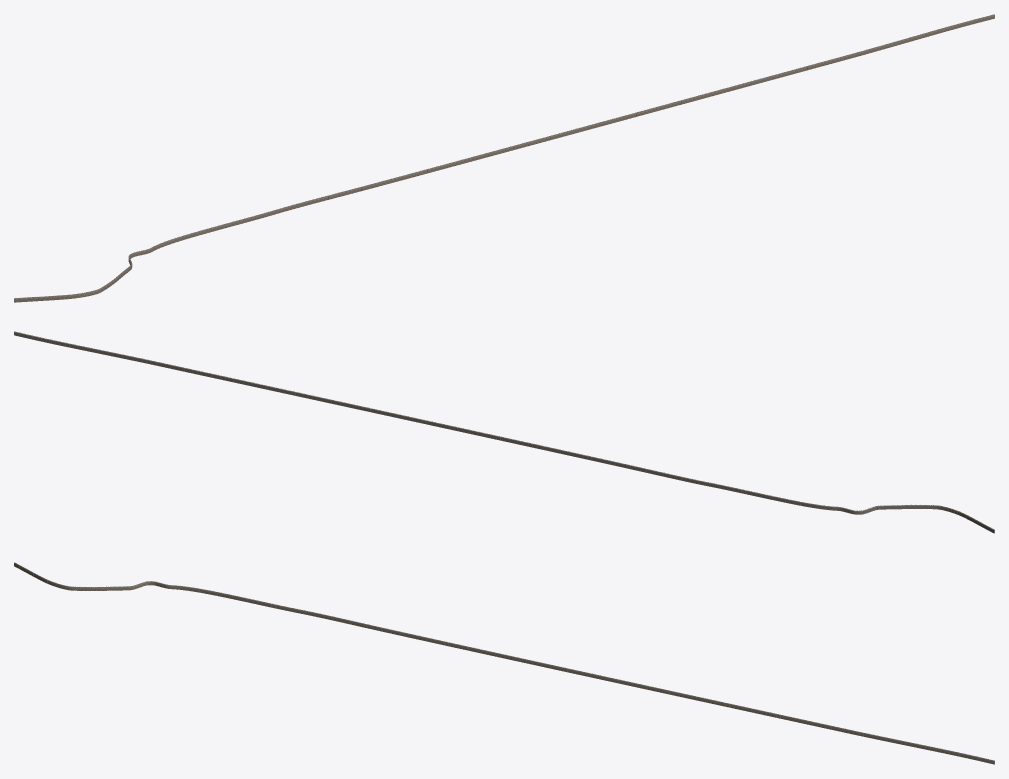
3 views of the same model, one above another, from view 1: azimuth 30°, elevation 25°; view 2: azimuth 150°, elevation 25°; view 3: azimuth 330°, elevation 25° (orthographic). The views are drawn at different scales.
Visible parts, largest first — view 1: MuroNorte; view 2: MuroNorte; view 3: MuroNorte.
Boxes of the visible parts, x1=… form: MuroNorte: x1=14, y1=14, x2=994, y2=302; MuroNorte: x1=14, y1=331, x2=994, y2=533; MuroNorte: x1=14, y1=562, x2=994, y2=764.
Bounding box in the file's own units: 189 × 0.7375 × 18.67.
1 material, 1 textured.
